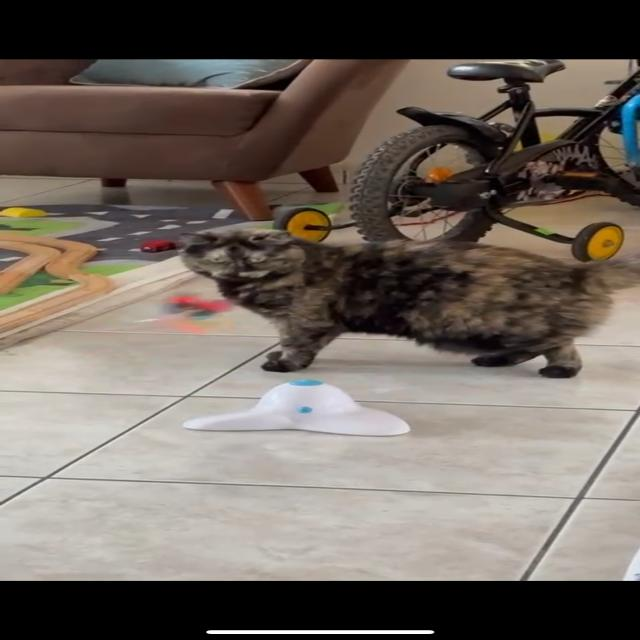authorized: (176, 226, 638, 378)
